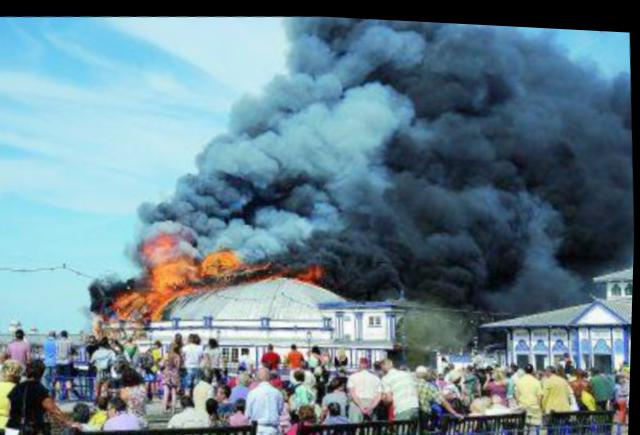fire: (156, 253, 197, 295), (147, 227, 180, 261), (207, 244, 241, 275), (119, 285, 148, 314), (148, 288, 174, 317), (301, 258, 327, 276)
